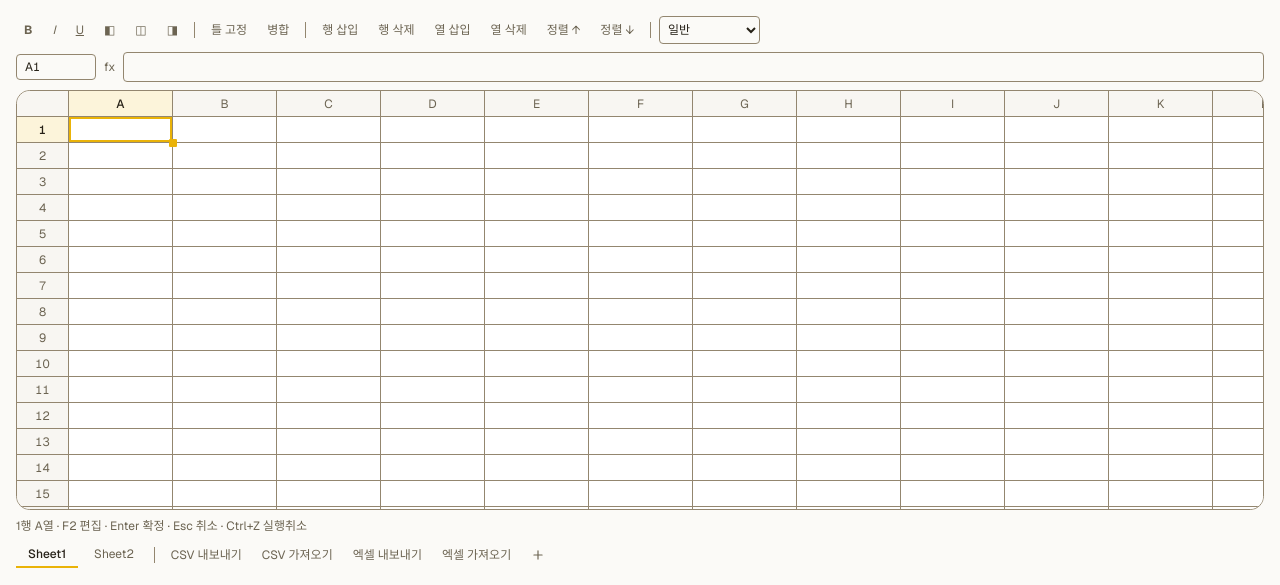
Test: SheetPanel 시트 탭 › 시트가 여럿이면 탭이 모두 보이고 눌러서 옮겨간다
Click the tab "Sheet2". click: (114, 555)
box: [82, 542, 146, 568]
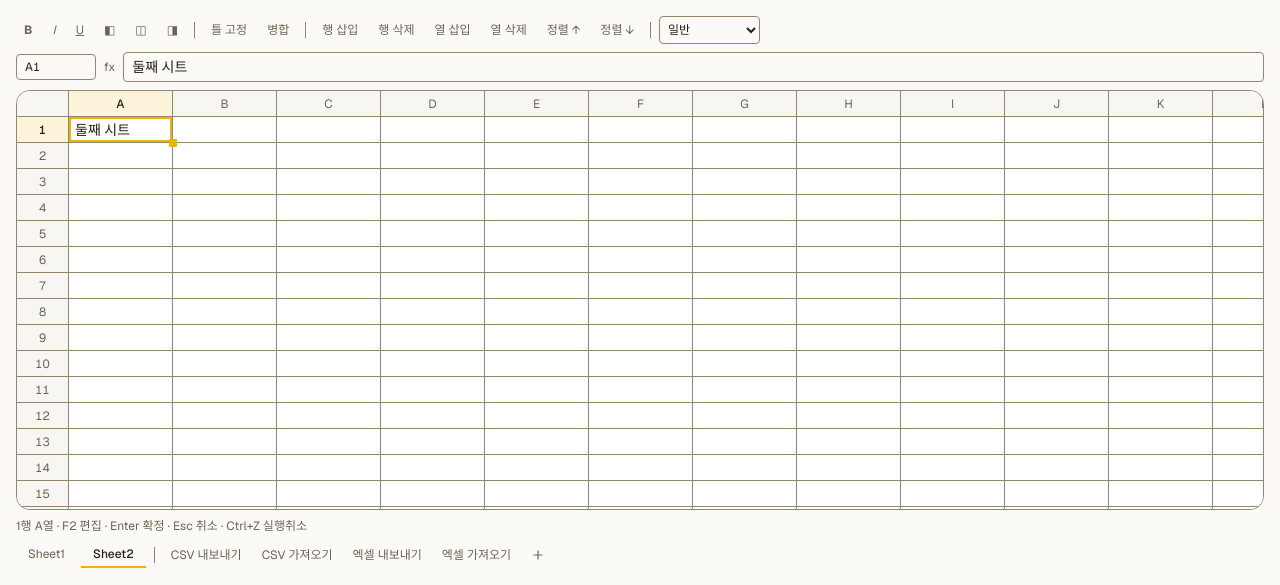
Check: the cell "둘째 시트" is shown, box [69, 117, 173, 143]
